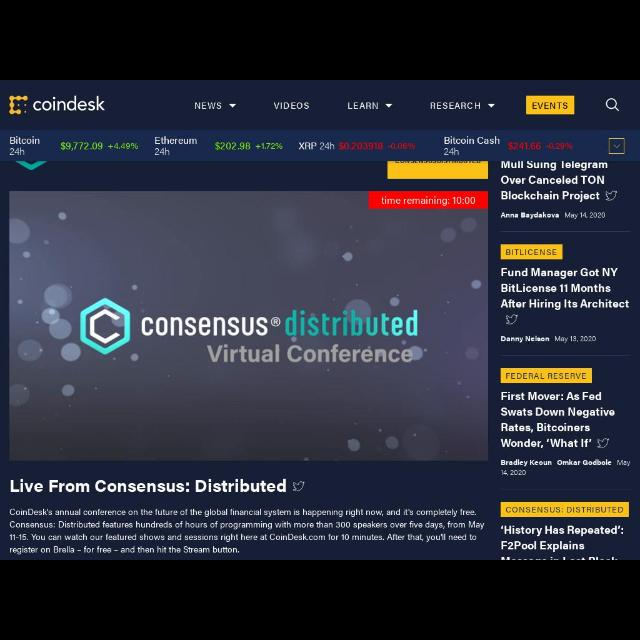icon: (602, 95, 622, 115), (289, 478, 307, 492), (504, 312, 518, 328), (596, 437, 610, 449), (604, 190, 618, 202), (226, 102, 238, 110), (382, 102, 393, 108), (614, 142, 620, 150), (488, 104, 496, 108)
image: (10, 190, 488, 458), (10, 94, 109, 120)
spinner: (428, 100, 497, 110), (348, 100, 396, 112), (194, 100, 238, 112), (607, 137, 625, 155)
text: (7, 511, 479, 554), (500, 388, 616, 452), (501, 268, 631, 310), (12, 478, 288, 494), (502, 525, 628, 559), (501, 162, 603, 202), (498, 459, 632, 476), (300, 142, 414, 152), (380, 195, 478, 205), (507, 506, 623, 514), (499, 212, 606, 220), (499, 336, 599, 344), (504, 371, 586, 379), (59, 142, 137, 150), (214, 142, 282, 150), (10, 137, 40, 155), (445, 138, 499, 146), (506, 248, 558, 256), (510, 144, 572, 150), (430, 104, 480, 110), (193, 100, 221, 110), (154, 138, 196, 144), (348, 102, 378, 110), (272, 104, 308, 110), (154, 147, 172, 155), (446, 149, 460, 157)
textbutton: (526, 96, 572, 114)
toolbar: (3, 84, 633, 124)
